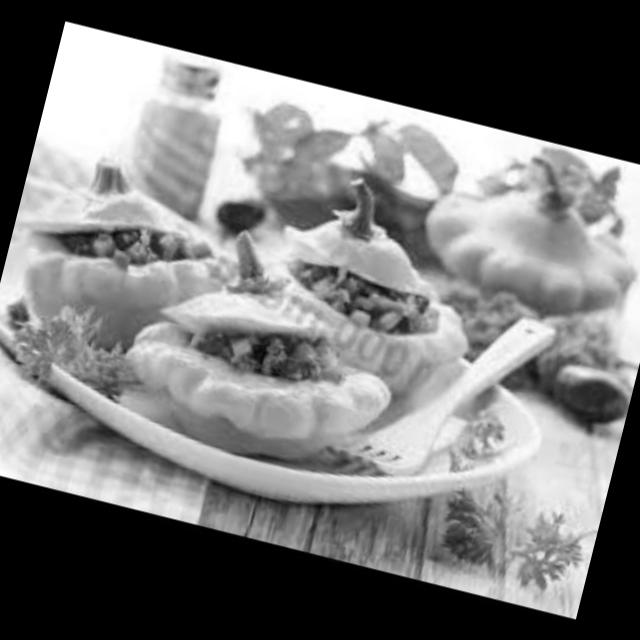squash: (104, 307, 396, 471), (411, 147, 640, 338), (8, 215, 226, 382), (278, 254, 482, 397), (32, 138, 213, 266), (160, 241, 333, 354), (274, 184, 446, 293)
tomato: (538, 340, 640, 430), (207, 172, 280, 248)
